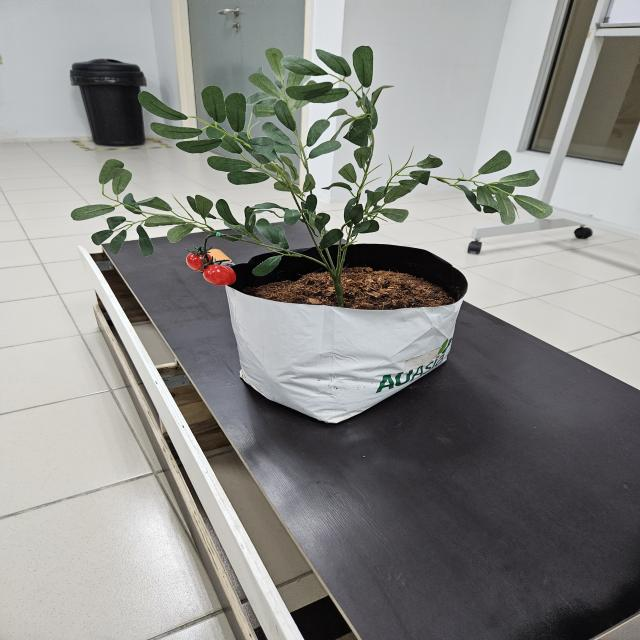Soilbag: (219, 244, 468, 425)
Tomato: (186, 252, 237, 286)
plant: (70, 46, 556, 287)
